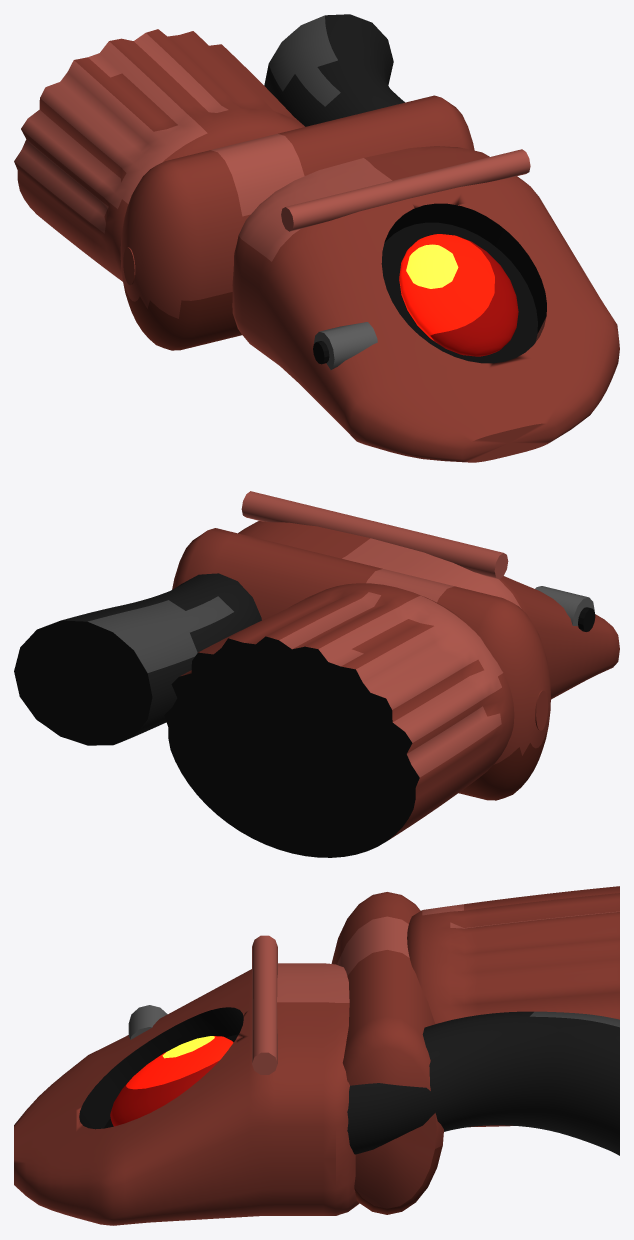
File: deli_arm_left.glb
3 renders of one model, top to bottom at view 1: azimuth 30°, elevation 25°; view 2: azimuth 150°, elevation 25°; view 3: azimuth 270°, elevation 25°, orthographic. The views are drawn at different scales.
Parts seen in each view (by area): view 1: deli_arm_left; view 2: deli_arm_left; view 3: deli_arm_left.
Boxes of the visible parts, x1,y1,x2,y2 form: deli_arm_left: (14, 14, 619, 462); deli_arm_left: (14, 491, 619, 857); deli_arm_left: (14, 886, 619, 1225).
Size of the model in its own units: 18.93 by 10.53 by 25.77.
